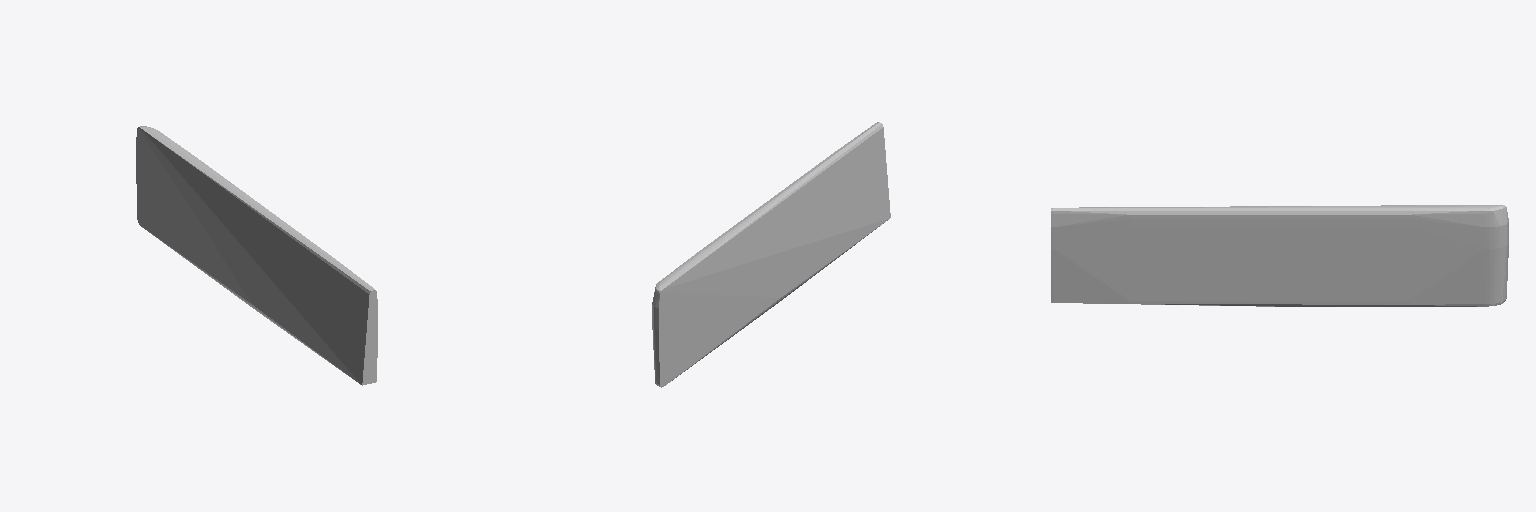
The model's file is plastic_box_collision_0.obj.
The picture shows the model from 3 angles: view 1: azimuth 30°, elevation 25°; view 2: azimuth 150°, elevation 25°; view 3: azimuth 270°, elevation 25°; orthographic projection.
Size of the model in its own units: 0.0353 by 0.1996 by 0.8401.